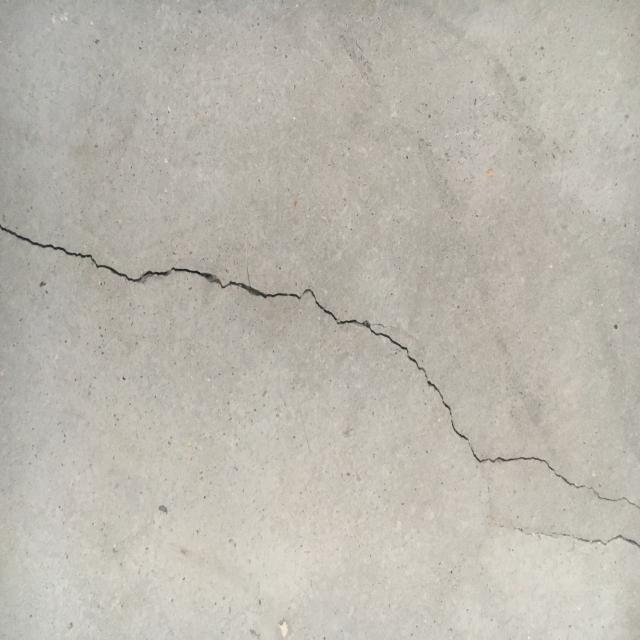SurfaceCrack: (1, 149, 640, 600)
